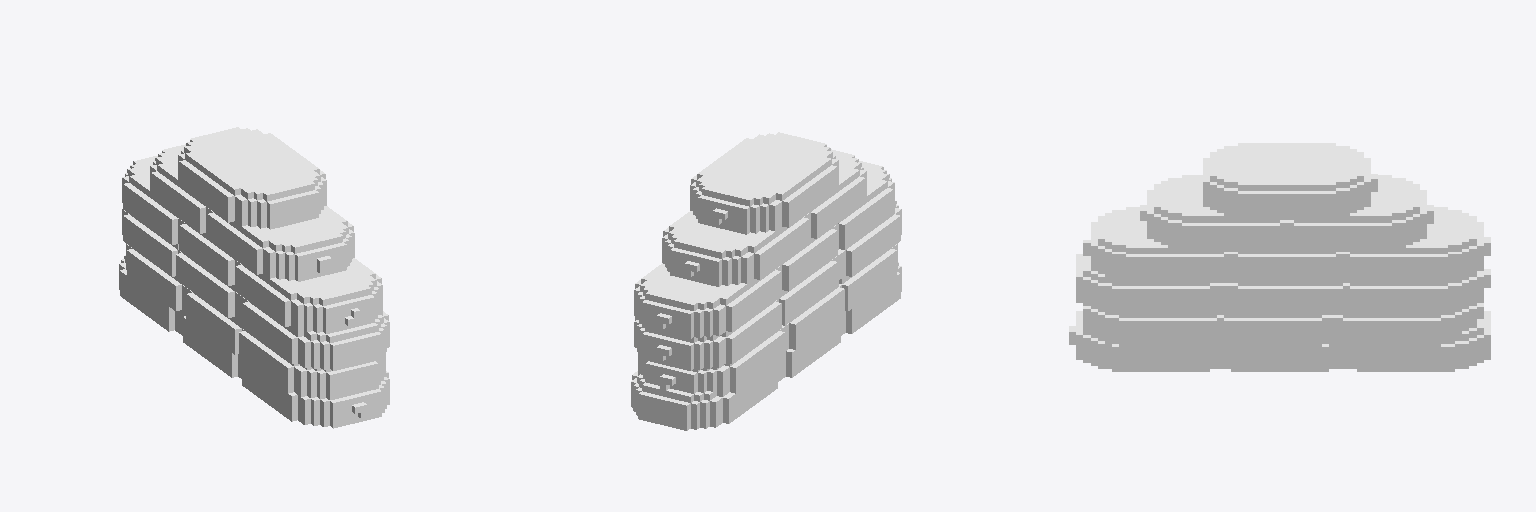
File: Sandbag.obj
3 renders of one model, left to right at view 1: azimuth 30°, elevation 25°; view 2: azimuth 150°, elevation 25°; view 3: azimuth 270°, elevation 25°, orthographic.
Parts seen in each view (by area): view 1: object 1; view 2: object 1; view 3: object 1.
Boxes of the visible parts, box(x1,y1,x2,y2) form: object 1: box(119, 127, 389, 428); object 1: box(631, 132, 901, 430); object 1: box(1069, 143, 1490, 371).
Bounding box in the file's own units: 1.6 × 2.9 × 6.